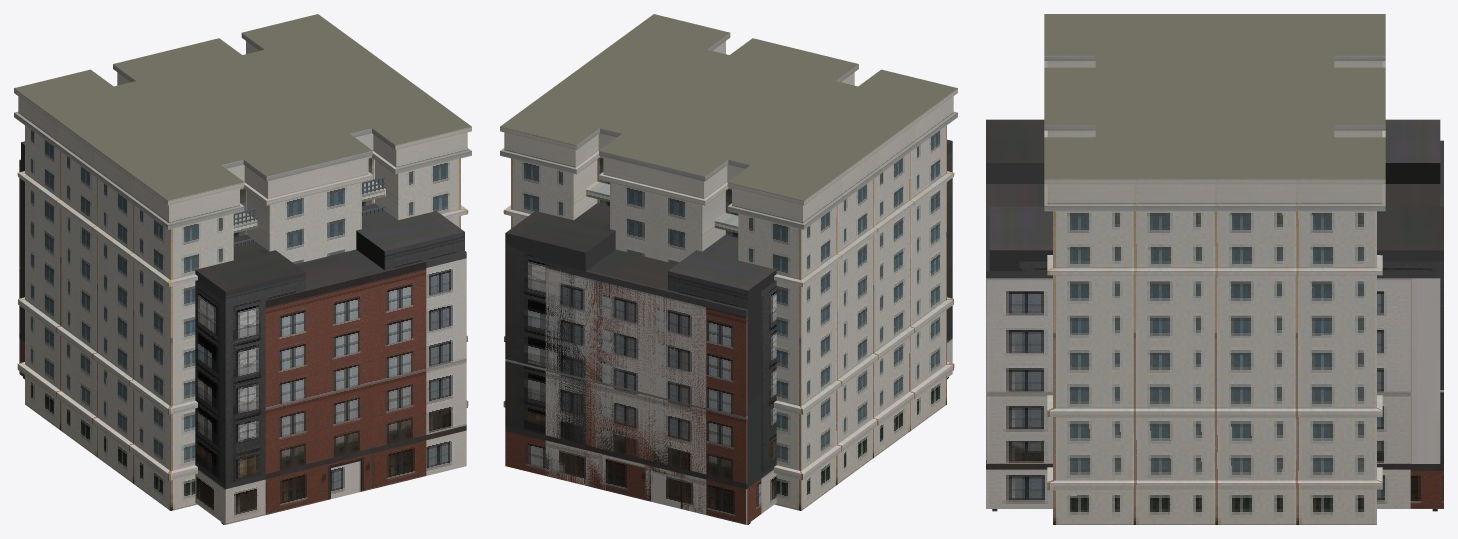
Rendered from buildings__ps1_asset_pack.glb.
3 views of the same model, side by side, from view 1: azimuth 30°, elevation 25°; view 2: azimuth 150°, elevation 25°; view 3: azimuth 270°, elevation 25° (orthographic). The views are drawn at different scales.
Visible parts, largest first — view 1: mp_hotel, mp_condo_a, mp_condo_b, mp_condo_d; view 2: mp_hotel, mp_condo_d, mp_condo_c, mp_condo_b; view 3: mp_hotel, mp_condo_b, mp_condo_d.
Boxes of the visible parts, box(x1,y1,x2,y2) form: mp_hotel: box(14, 14, 471, 510); mp_condo_a: box(265, 262, 426, 514); mp_condo_b: box(20, 141, 466, 524); mp_condo_d: box(19, 159, 464, 524); mp_hotel: box(500, 14, 957, 510); mp_condo_d: box(505, 203, 948, 524); mp_condo_c: box(545, 262, 706, 514); mp_condo_b: box(505, 139, 952, 524); mp_hotel: box(1044, 14, 1385, 524); mp_condo_b: box(986, 119, 1443, 511); mp_condo_d: box(989, 140, 1443, 511).
Bounding box in the file's own units: 30.31 × 30.01 × 35.59.
5 materials, 3 textured.
